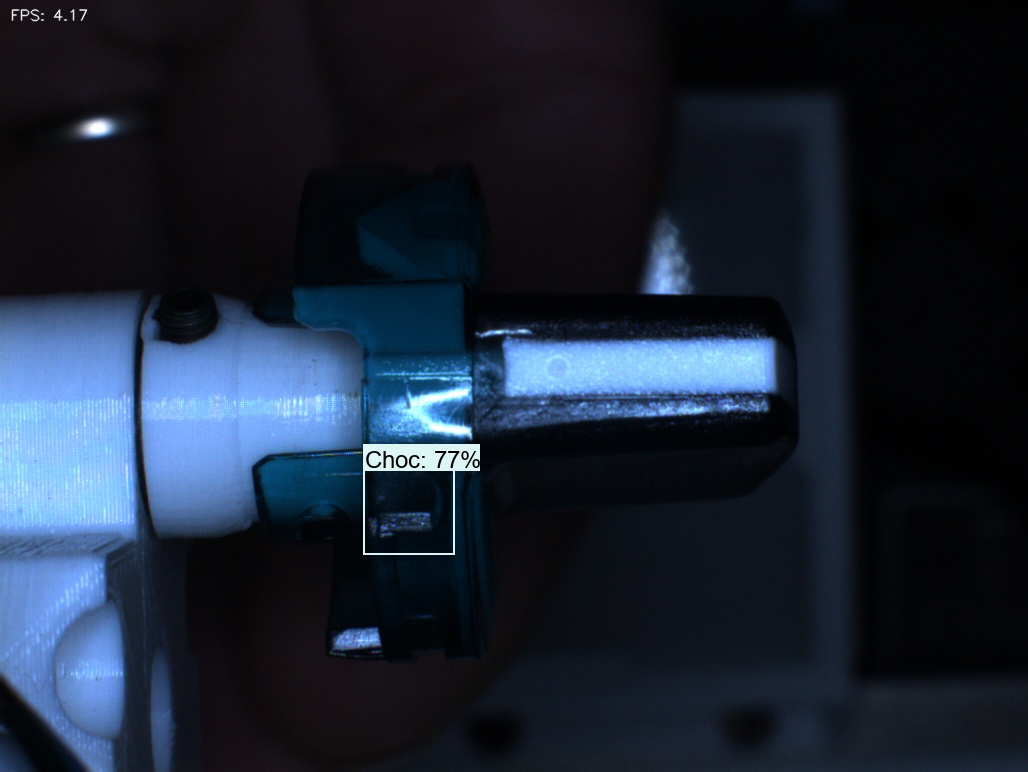DentOk: (325, 184, 401, 270)
